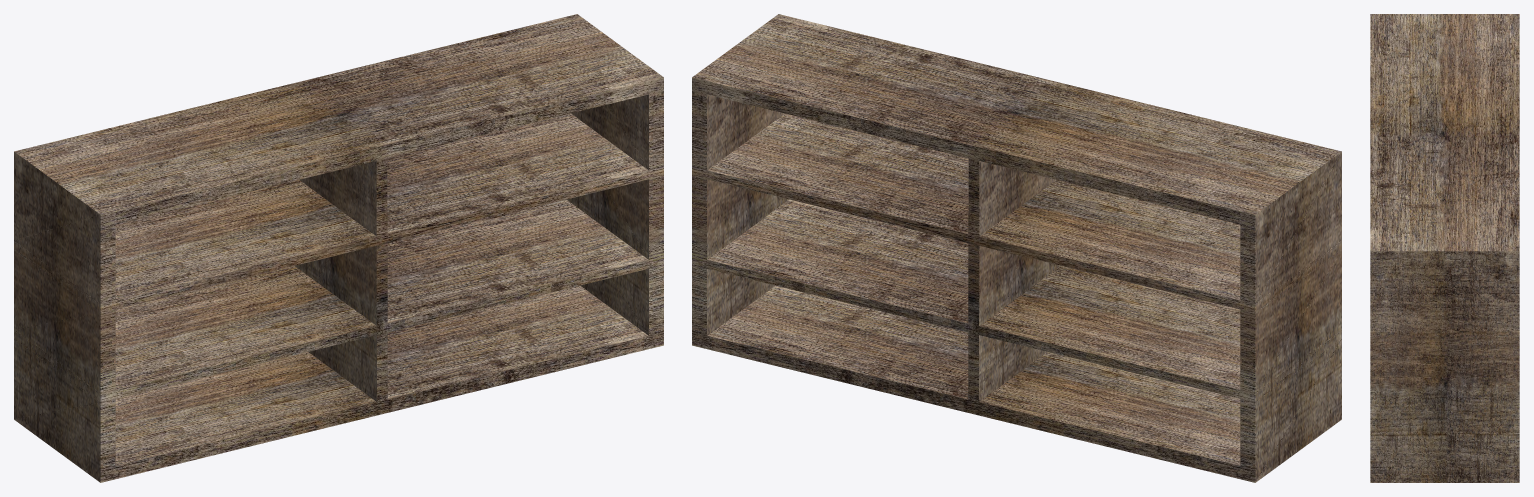
Rendered from polcosSzekreny.fbx.
3 renders of one model, left to right at view 1: azimuth 30°, elevation 25°; view 2: azimuth 150°, elevation 25°; view 3: azimuth 270°, elevation 25°, orthographic. The views are drawn at different scales.
Visible parts, largest first — view 1: Cube; view 2: Cube; view 3: Cube.
Boxes of the visible parts, x1,y1,x2,y2 form: Cube: (14, 14, 663, 482); Cube: (692, 14, 1341, 482); Cube: (1370, 14, 1519, 482).
Size of the model in its own units: 440 by 200 by 117.
